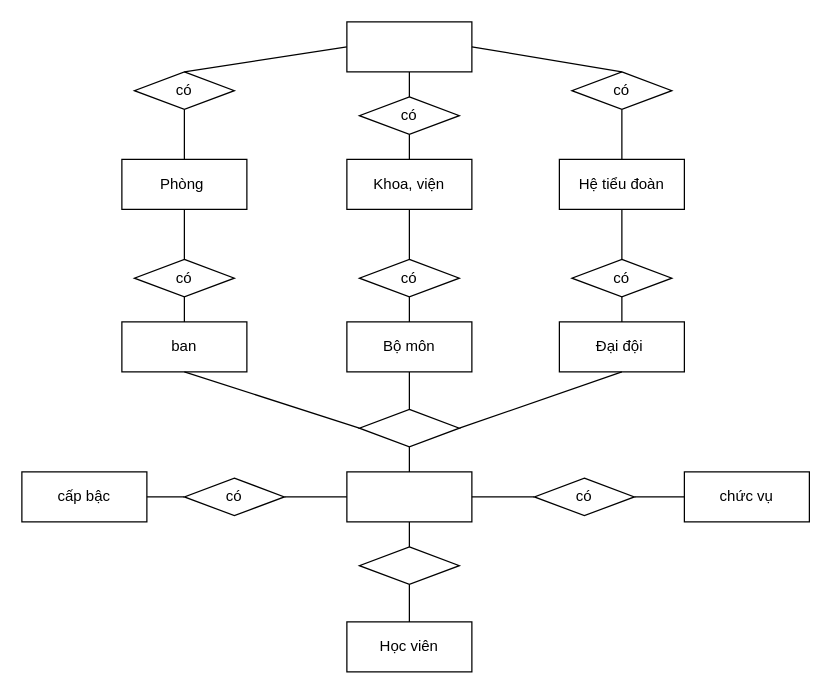
Some shapes in this 831 by 694 pixel diagram are drawn without their labels. The centre of each missing label's shape, as x and y in pixels:
"cán bộ" goes at (x=409, y=496).
"công tác" goes at (x=408, y=427).
"Học viện" goes at (x=409, y=46).
"quản lý" goes at (x=408, y=565).
